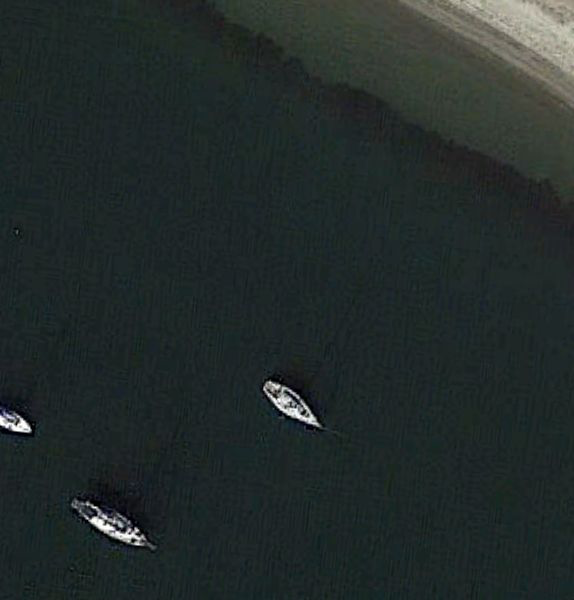boat: (70, 495, 157, 552), (260, 376, 326, 433), (1, 402, 35, 440)
